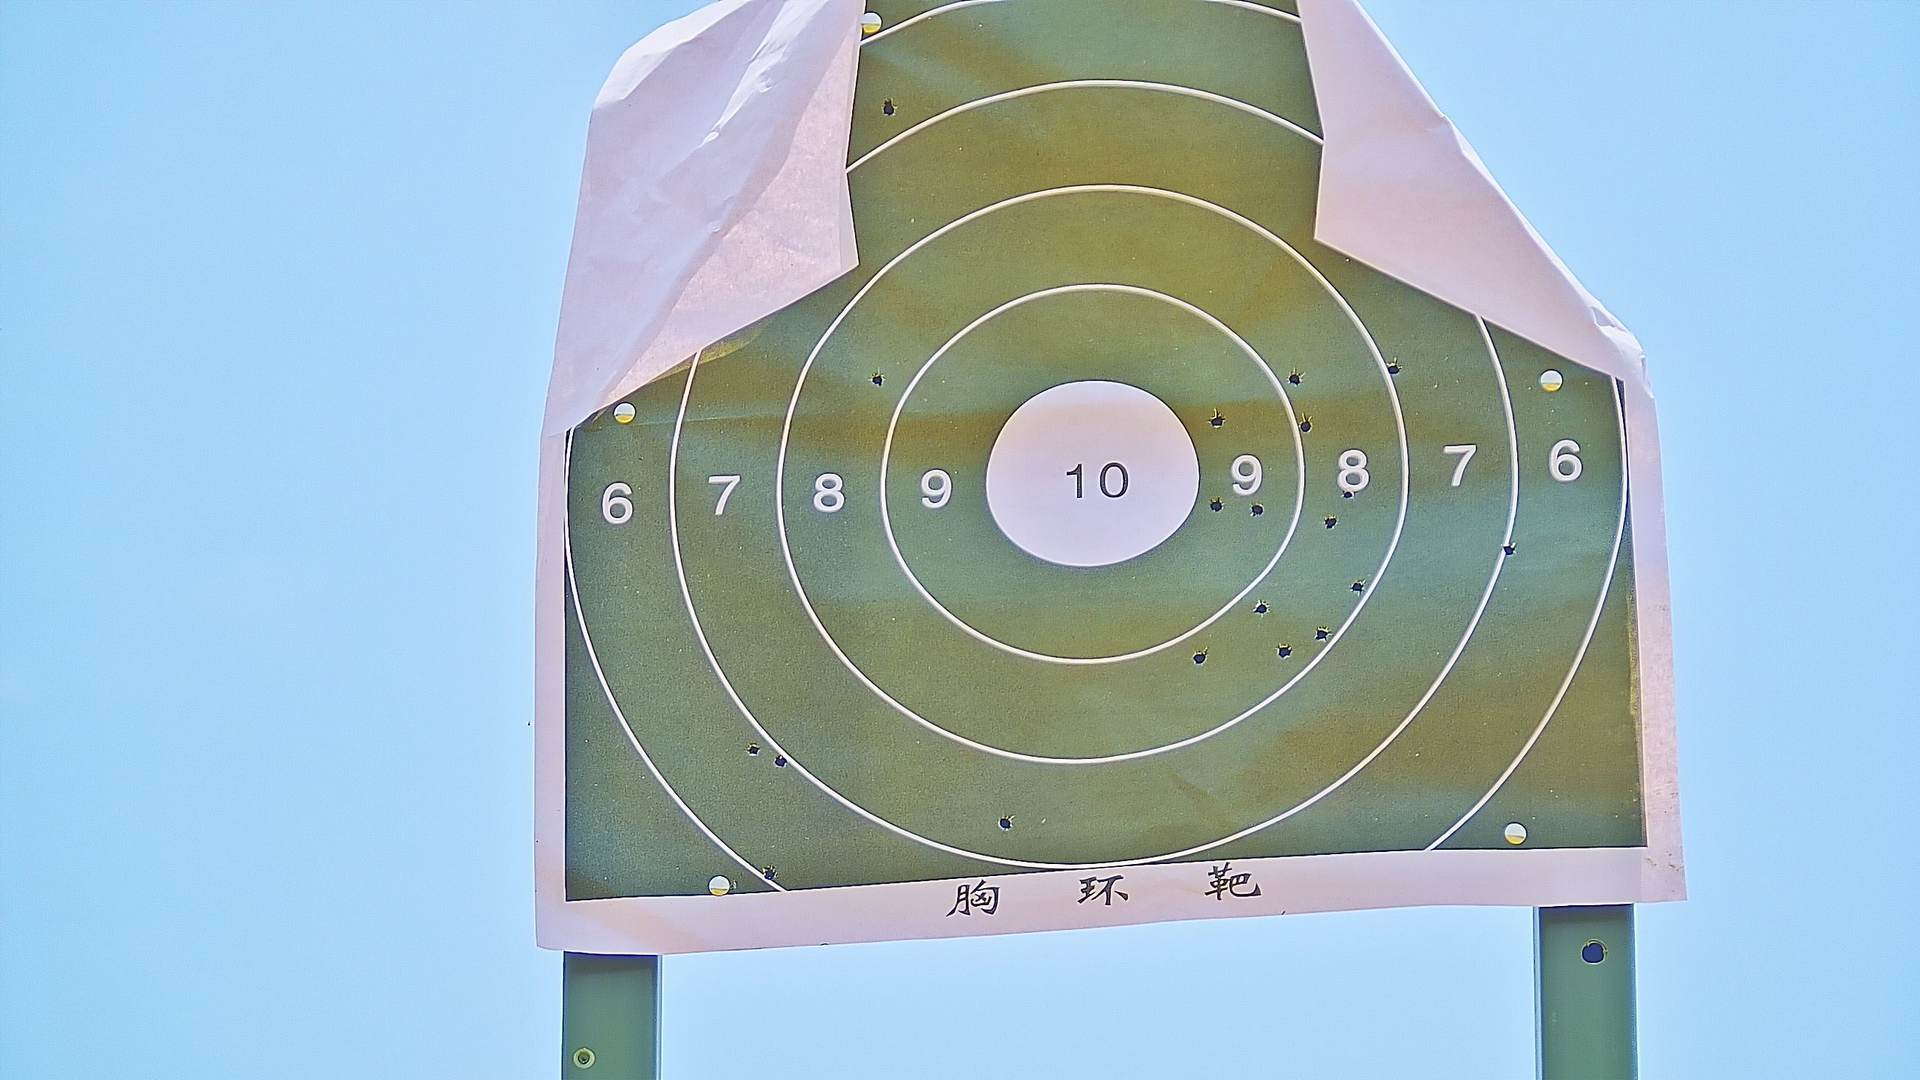hole: (1208, 410, 1225, 429), (880, 99, 895, 116), (1300, 417, 1313, 435), (1253, 600, 1269, 615), (1386, 360, 1400, 376), (1313, 626, 1331, 640), (1000, 816, 1014, 831), (1287, 372, 1302, 386), (1276, 642, 1290, 658), (1192, 650, 1207, 663), (872, 373, 884, 388), (748, 742, 760, 757), (1250, 504, 1265, 516), (1352, 579, 1364, 593), (773, 754, 786, 766), (1324, 514, 1335, 529), (1503, 542, 1514, 556), (764, 862, 773, 878), (1211, 500, 1222, 512), (1342, 488, 1354, 500)
kernel: (1088, 483, 1096, 484)
target: (563, 3, 1654, 913)
ten: (982, 378, 1201, 568)
